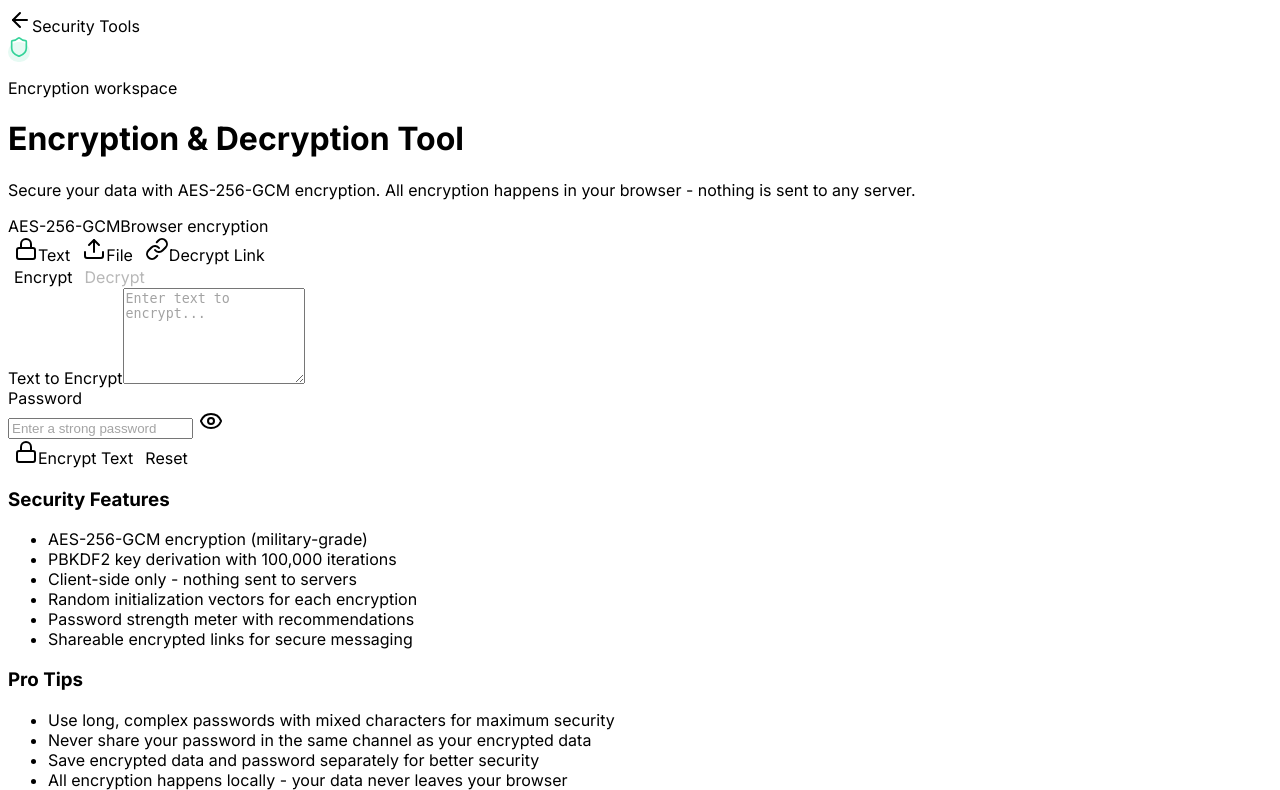
Test case: Encryption Tool Page › Clear Functionality › should clear input when clicked
Type "Test message" into the text box with placeholder "Enter text to encrypt..." at (214, 336), box [122,288,304,384]
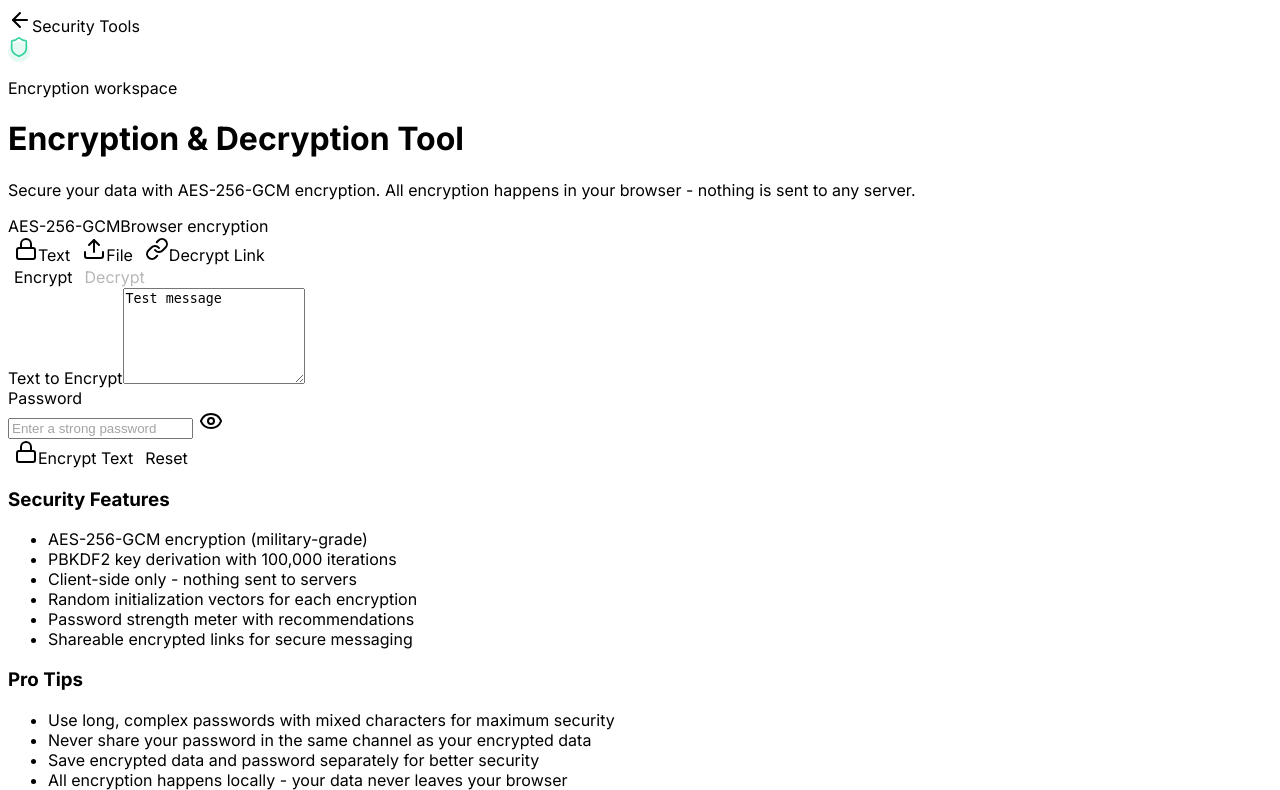
Click the button "Reset" at (166, 458), box [139,447,194,469]
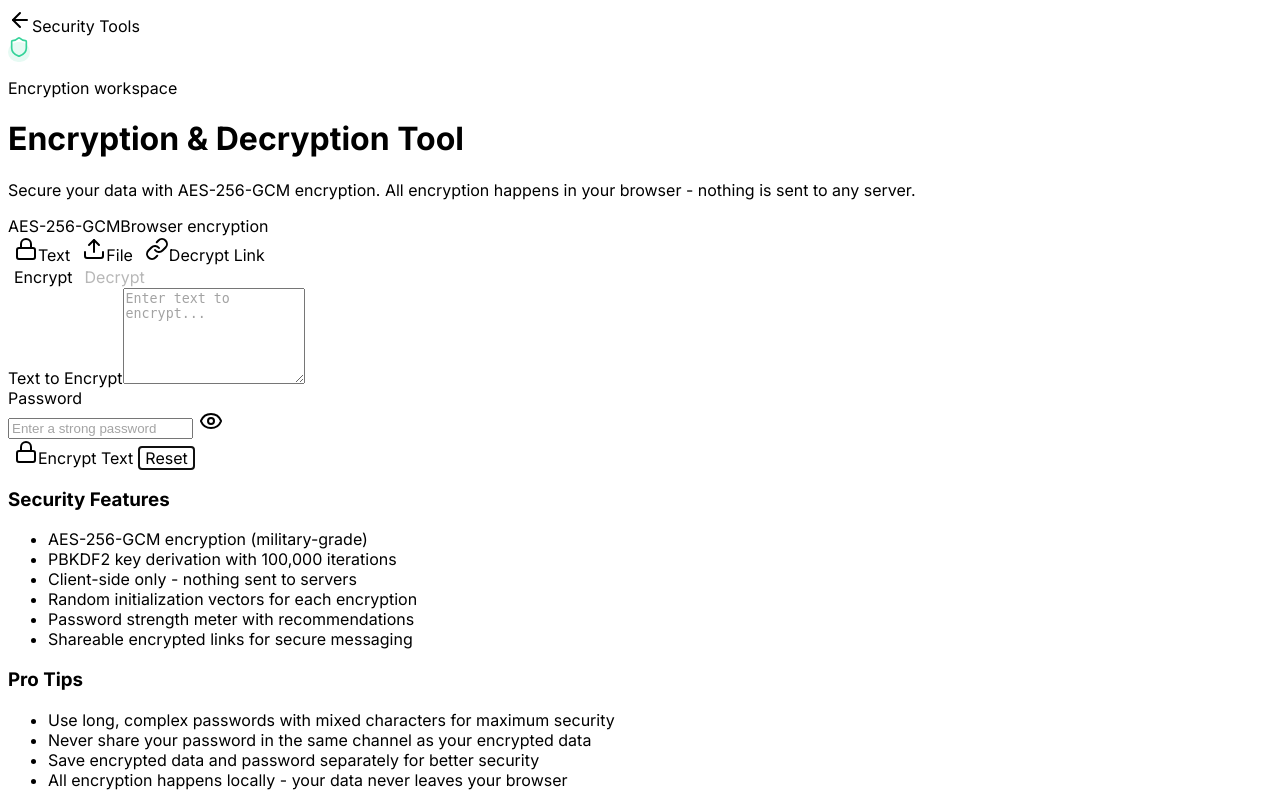
Now the text box with placeholder "Enter text to encrypt..." is empty, box [122,288,304,384]
